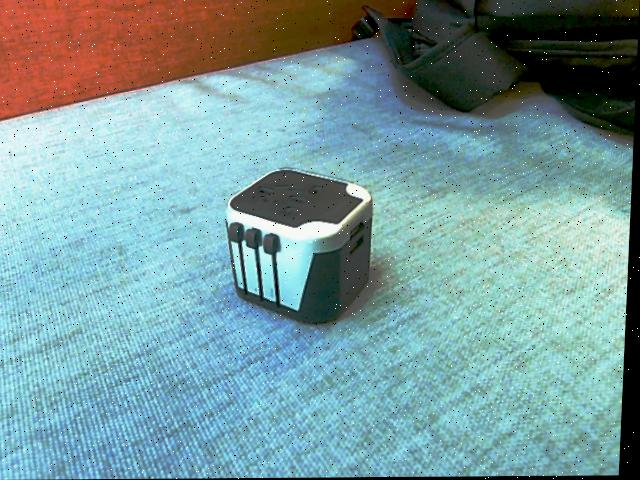adapter: (222, 167, 377, 325)
